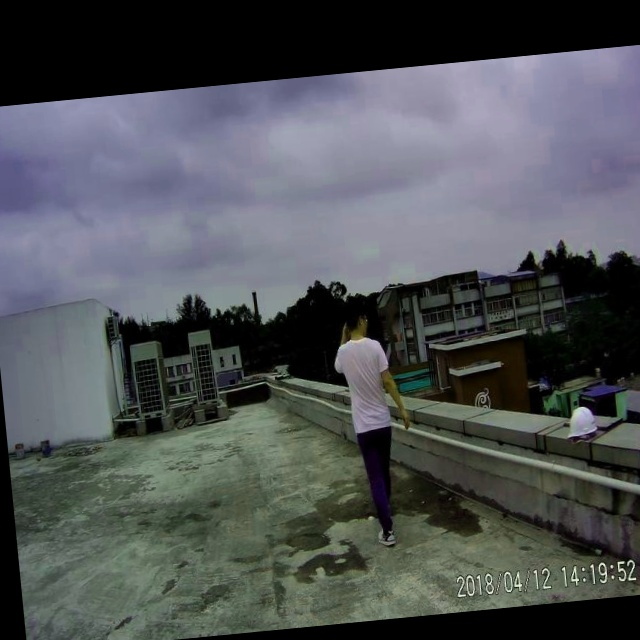Sin_Chaleco: (339, 336, 395, 435)
